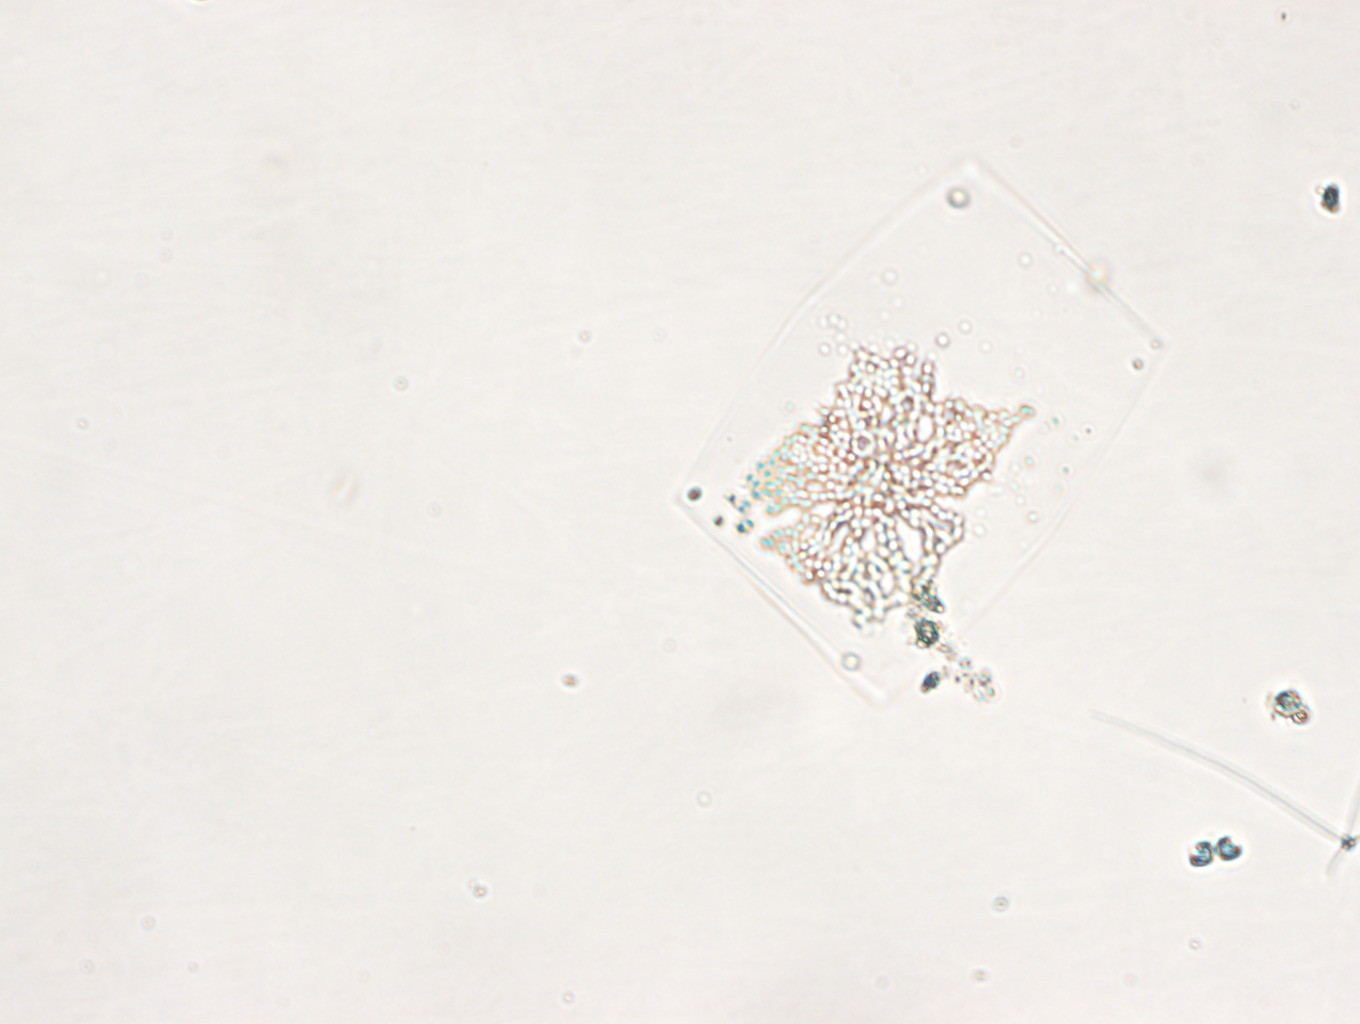helicotheca: (662, 148, 1166, 714)
